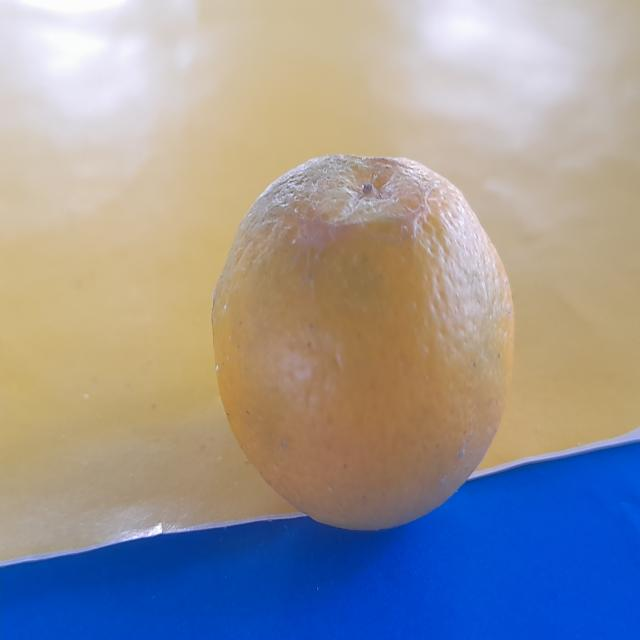greening: (198, 145, 518, 516)
